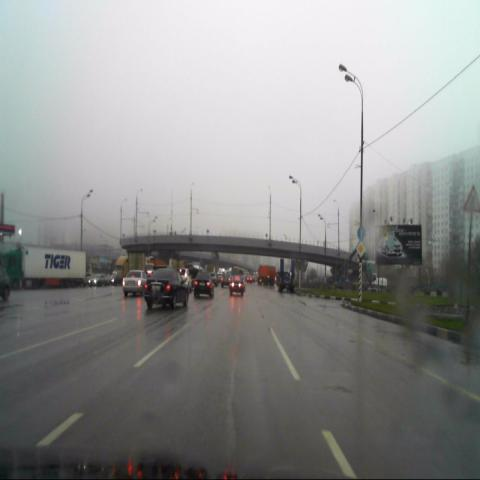2_1: (356, 241, 366, 257)
4_1_1: (358, 226, 366, 240)
